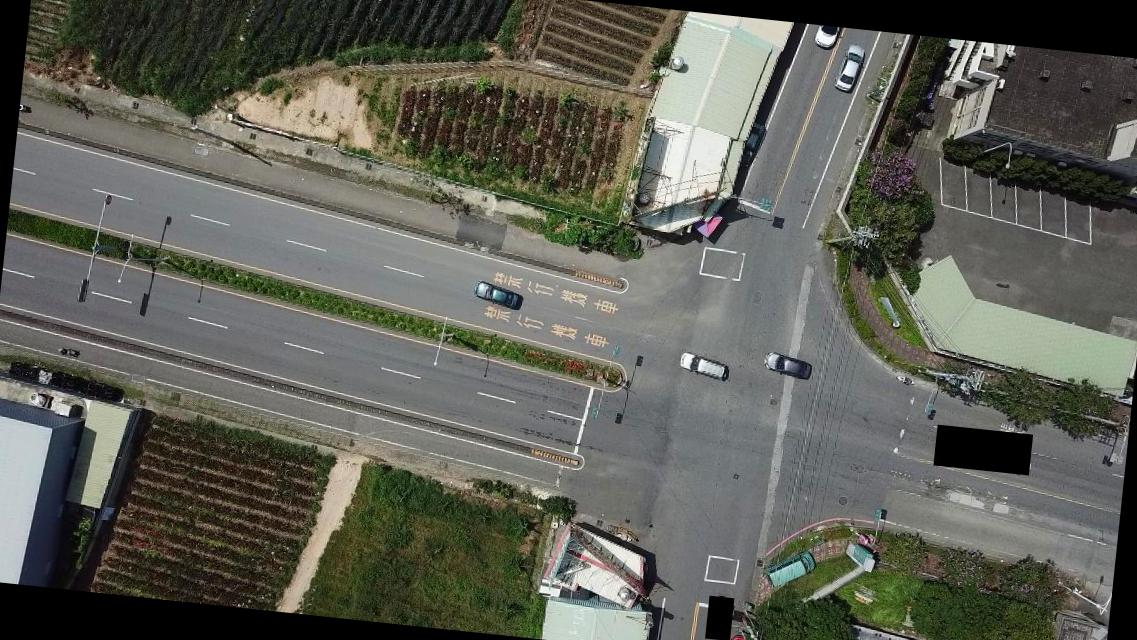vehicle: (762, 546, 820, 590), (830, 44, 869, 94), (674, 351, 732, 384), (474, 278, 524, 313), (760, 350, 812, 380), (740, 124, 766, 166), (812, 24, 840, 51), (728, 634, 751, 639)
